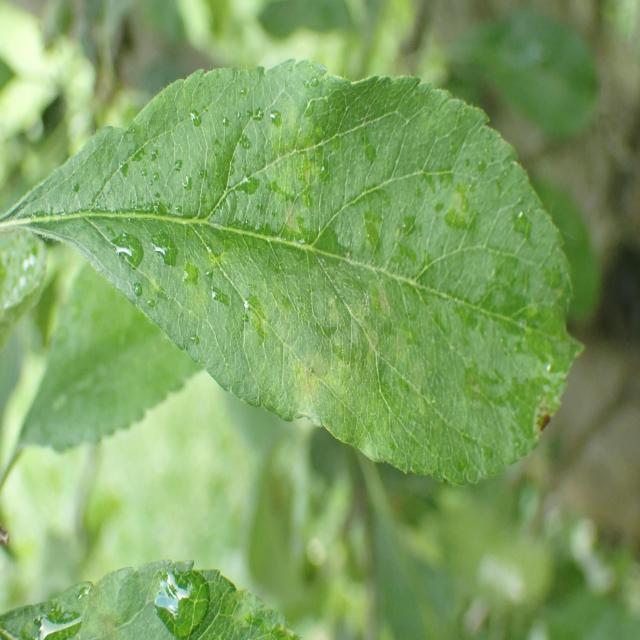scab: (105, 142, 564, 437)
